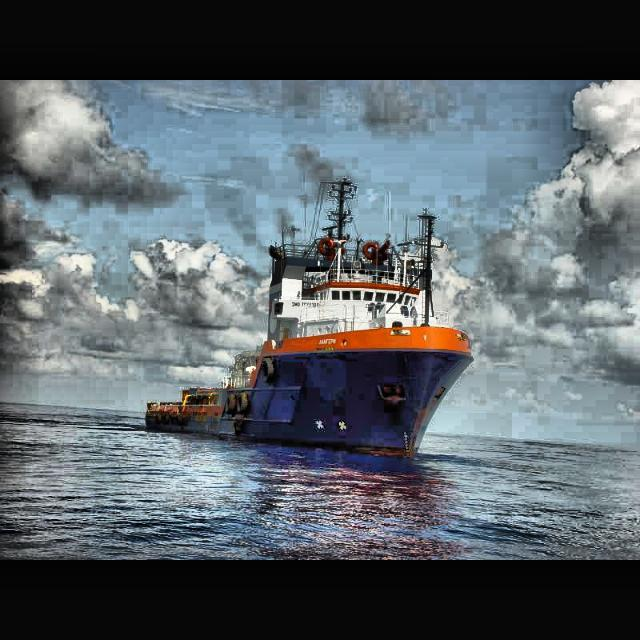anchor_handling_tug_supply: (143, 216, 474, 464)
